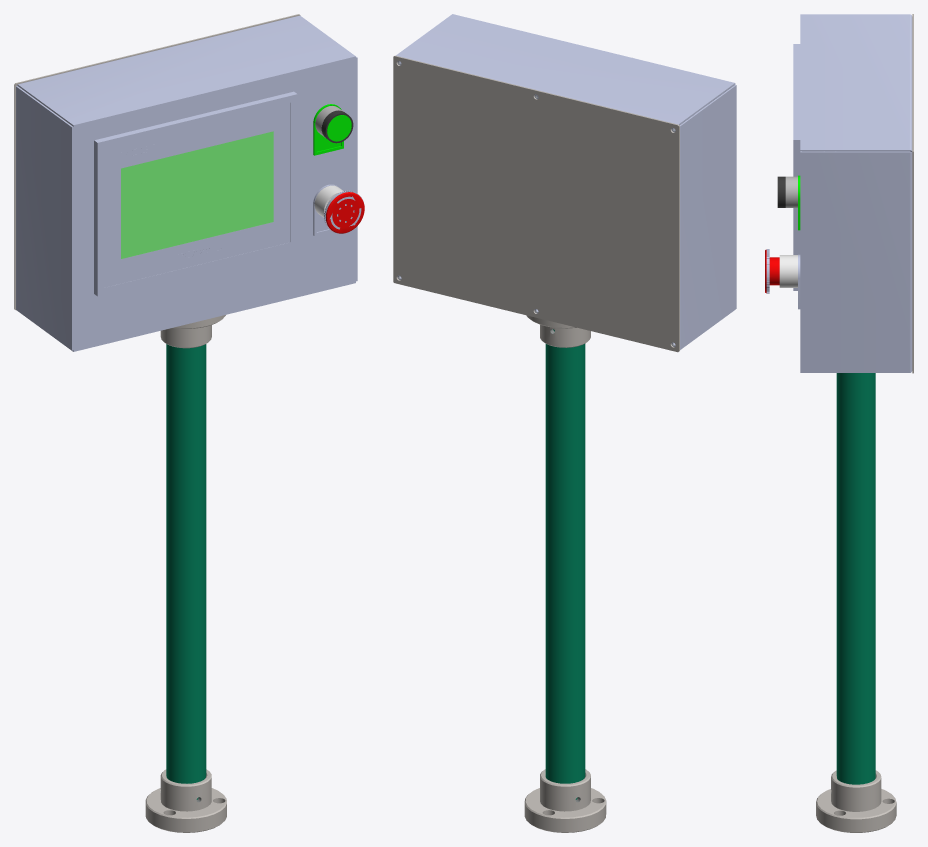
The model's file is control panel.fbx.
The picture shows the model from 3 angles, left to right: view 1: azimuth 30°, elevation 25°; view 2: azimuth 150°, elevation 25°; view 3: azimuth 270°, elevation 25°; orthographic projection.
Visible parts, largest first — view 1: DDPMJ-03-01箱体_默认, 昆仑通态人机TPC7062KD, DDPMJ-03-04支承杆_默认, DDPMJ-03-03支承座_默认.001, 急停按钮-D22_默认, 启动开关-D22_默认, DDPMJ-03-03支承座_默认, DDPMJ-03-02盖板_默认; view 2: DDPMJ-03-02盖板_默认, DDPMJ-03-01箱体_默认, DDPMJ-03-04支承杆_默认, DDPMJ-03-03支承座_默认.001, DDPMJ-03-03支承座_默认; view 3: DDPMJ-03-01箱体_默认, DDPMJ-03-04支承杆_默认, DDPMJ-03-03支承座_默认.001, 昆仑通态人机TPC7062KD, 急停按钮-D22_默认, 启动开关-D22_默认, DDPMJ-03-02盖板_默认.
Part boxes in pixels (bbox=[...]): DDPMJ-03-01箱体_默认: bbox=[16, 15, 357, 351]; 昆仑通态人机TPC7062KD: bbox=[94, 91, 297, 296]; DDPMJ-03-04支承杆_默认: bbox=[166, 344, 206, 799]; DDPMJ-03-03支承座_默认.001: bbox=[145, 769, 226, 832]; 急停按钮-D22_默认: bbox=[313, 184, 364, 235]; 启动开关-D22_默认: bbox=[313, 104, 353, 155]; DDPMJ-03-03支承座_默认: bbox=[160, 315, 225, 348]; DDPMJ-03-02盖板_默认: bbox=[14, 14, 300, 310]; DDPMJ-03-02盖板_默认: bbox=[393, 55, 679, 352]; DDPMJ-03-01箱体_默认: bbox=[396, 14, 736, 349]; DDPMJ-03-04支承杆_默认: bbox=[545, 329, 585, 799]; DDPMJ-03-03支承座_默认.001: bbox=[524, 769, 606, 832]; DDPMJ-03-03支承座_默认: bbox=[526, 315, 590, 347]; DDPMJ-03-01箱体_默认: bbox=[800, 14, 912, 372]; DDPMJ-03-04支承杆_默认: bbox=[836, 373, 875, 784]; DDPMJ-03-03支承座_默认.001: bbox=[816, 770, 896, 832]; 昆仑通态人机TPC7062KD: bbox=[793, 44, 836, 290]; 急停按钮-D22_默认: bbox=[765, 249, 800, 309]; 启动开关-D22_默认: bbox=[777, 175, 800, 230]; DDPMJ-03-02盖板_默认: bbox=[912, 14, 913, 373].
Bounding box in the file's own units: 29 × 72.4 × 13.3.
